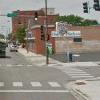Crosswalk: (49, 59, 86, 85)
